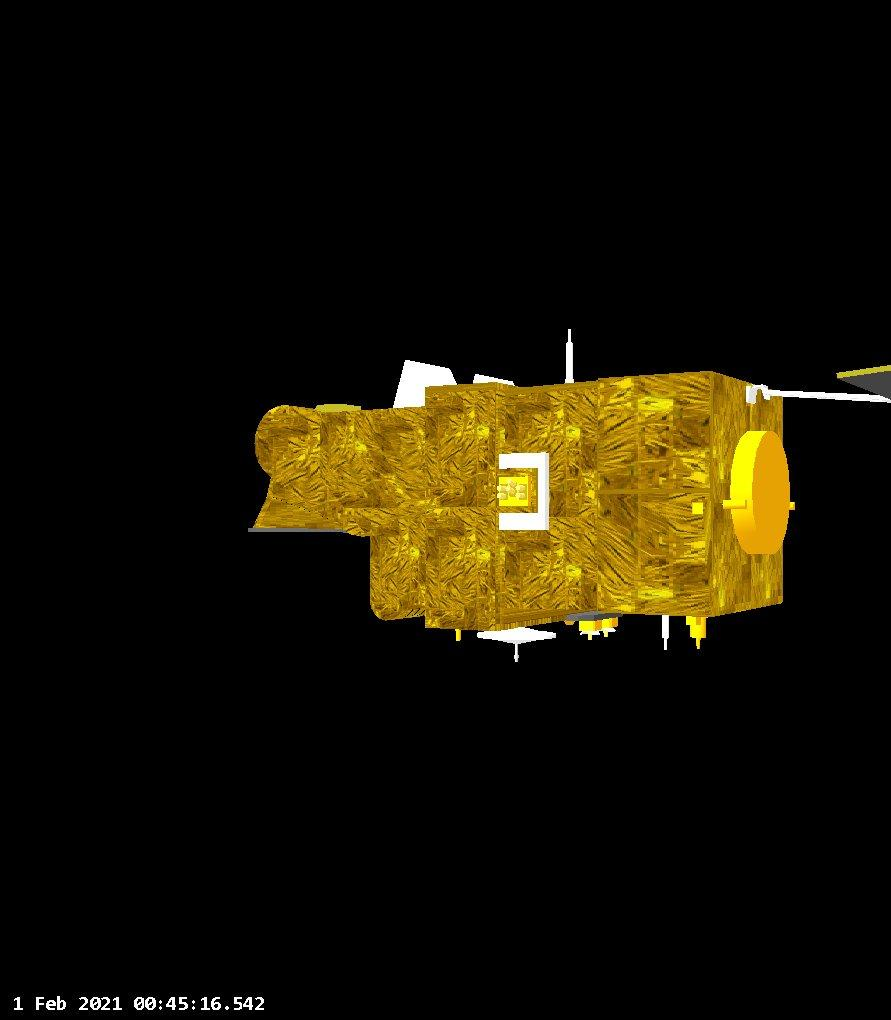antenna: (476, 612, 558, 662), (554, 321, 584, 385), (649, 604, 678, 662), (579, 624, 602, 646), (598, 623, 618, 641)
body: (236, 368, 795, 630)
